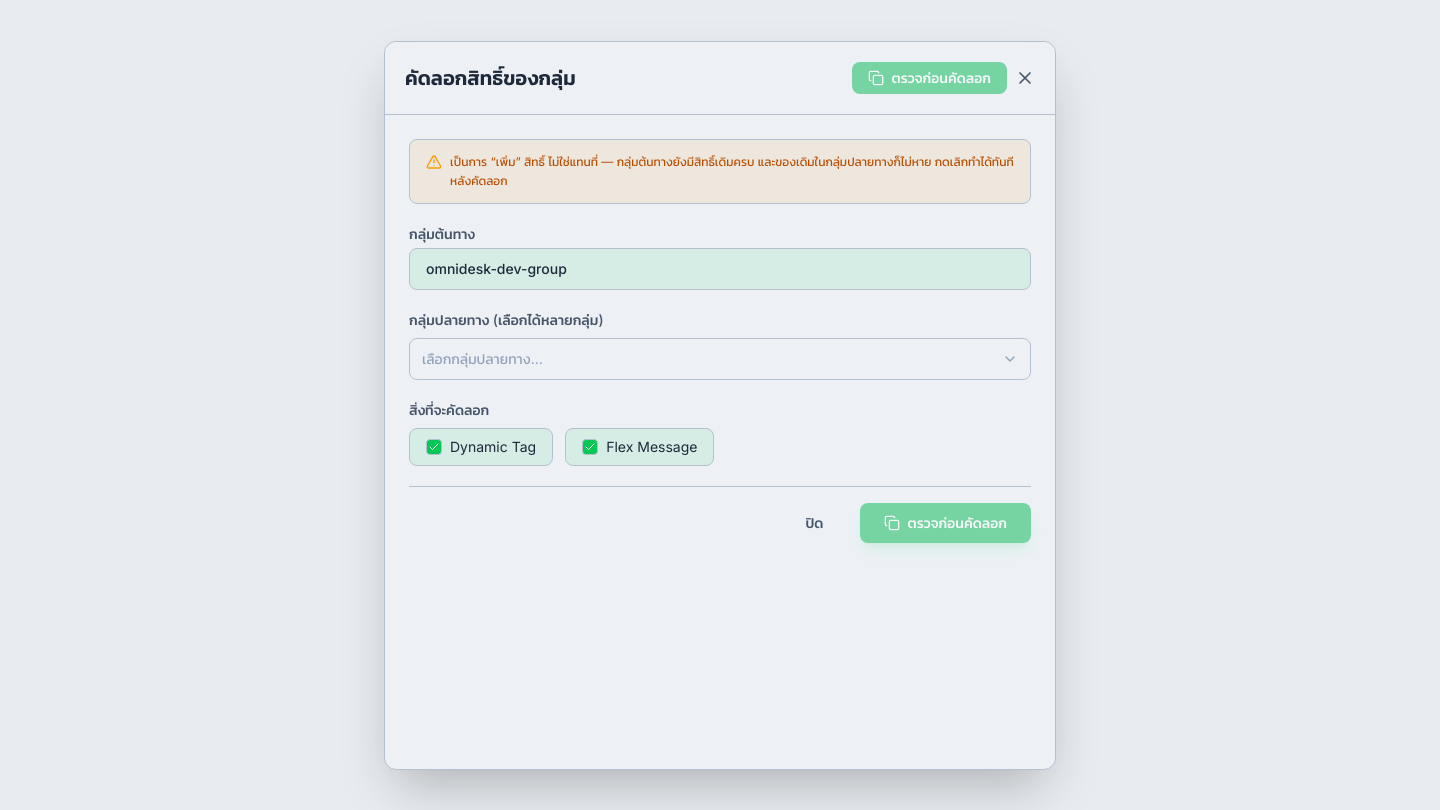
Test: GroupScopeCloneModal › changing the selection throws the preview away, so a stale count can never be confirmed
The width and height of the screenshot is (1440, 810).
Click the button with test id "group-picker-trigger" at (482, 358), box top-left (409, 338), bottom-right (1031, 380)
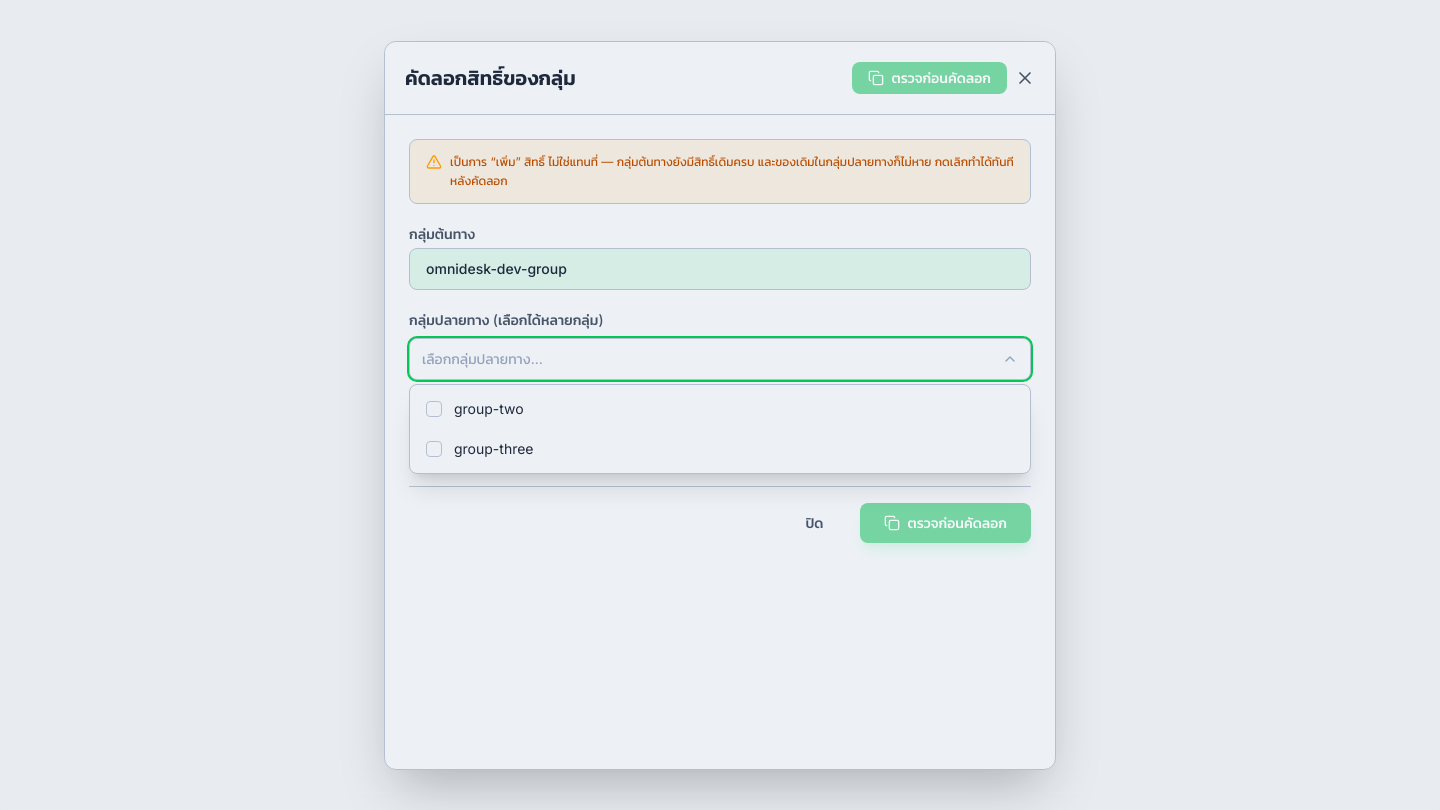
Click the button "group-two" at (489, 408), box top-left (410, 388), bottom-right (1030, 428)
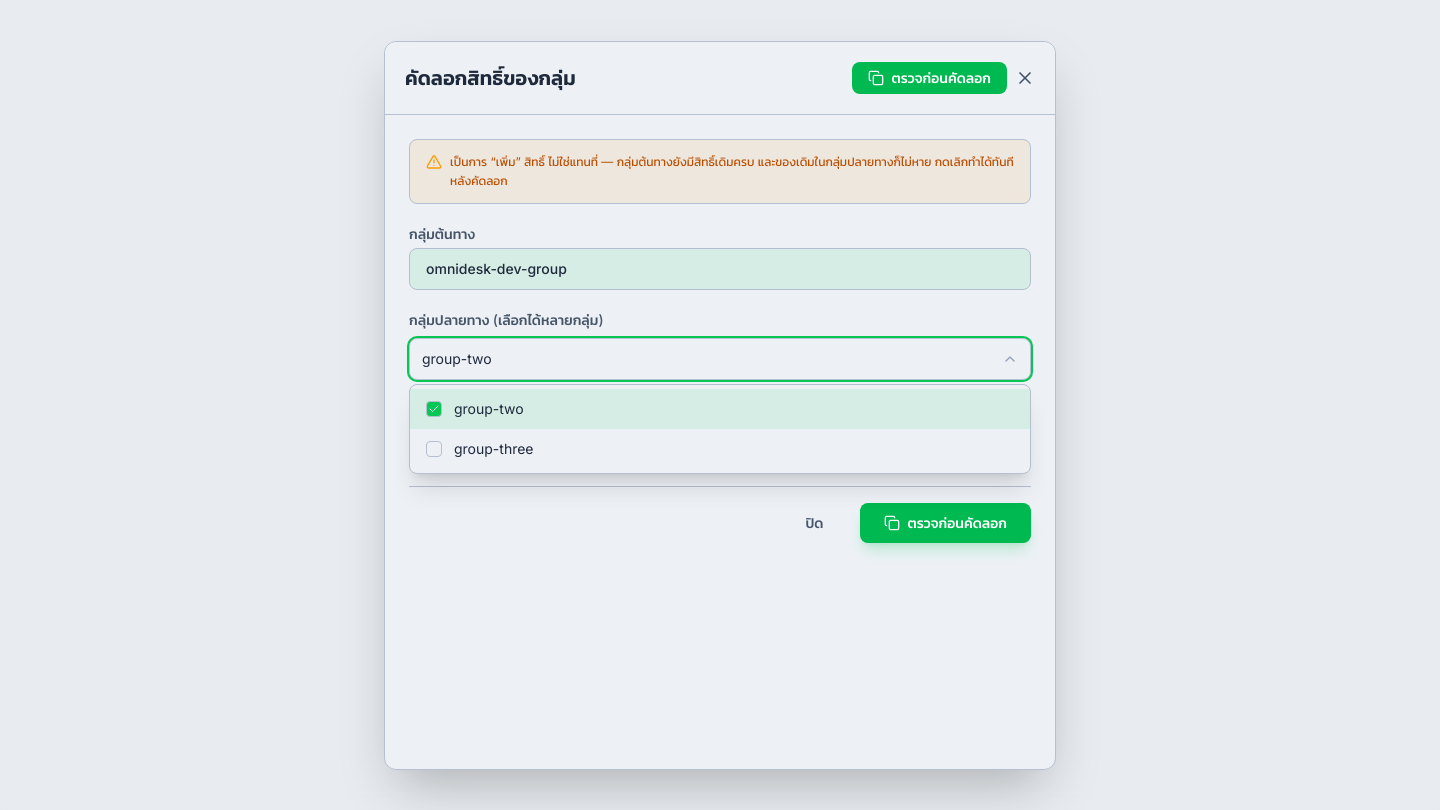
Click the button "ตรวจก่อนคัดลอก" in the row of "คัดลอกสิทธิ์ของกลุ่ม" at (929, 78), box top-left (852, 62), bottom-right (1007, 94)
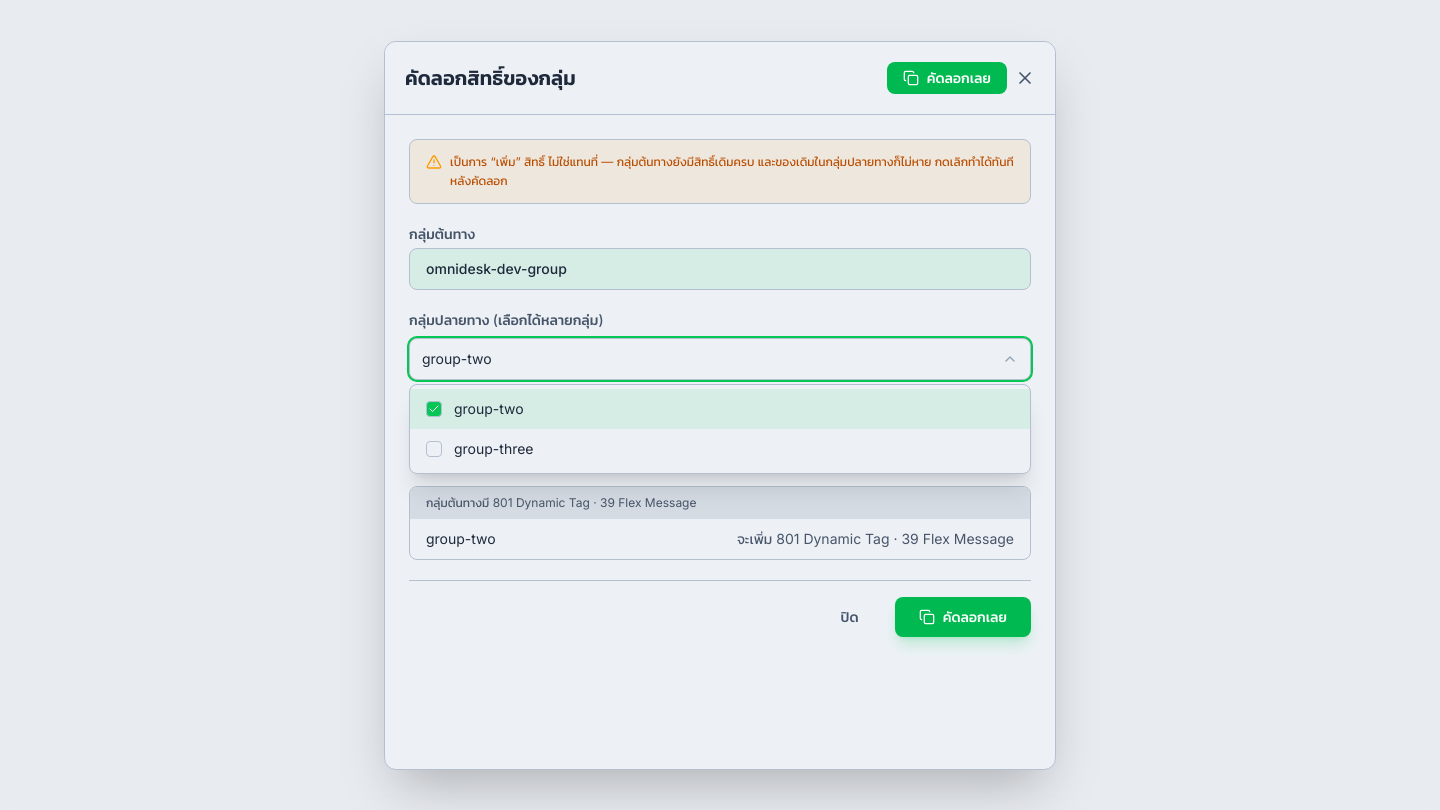
Click the button "group-three" at (494, 448), box top-left (410, 428), bottom-right (1030, 468)
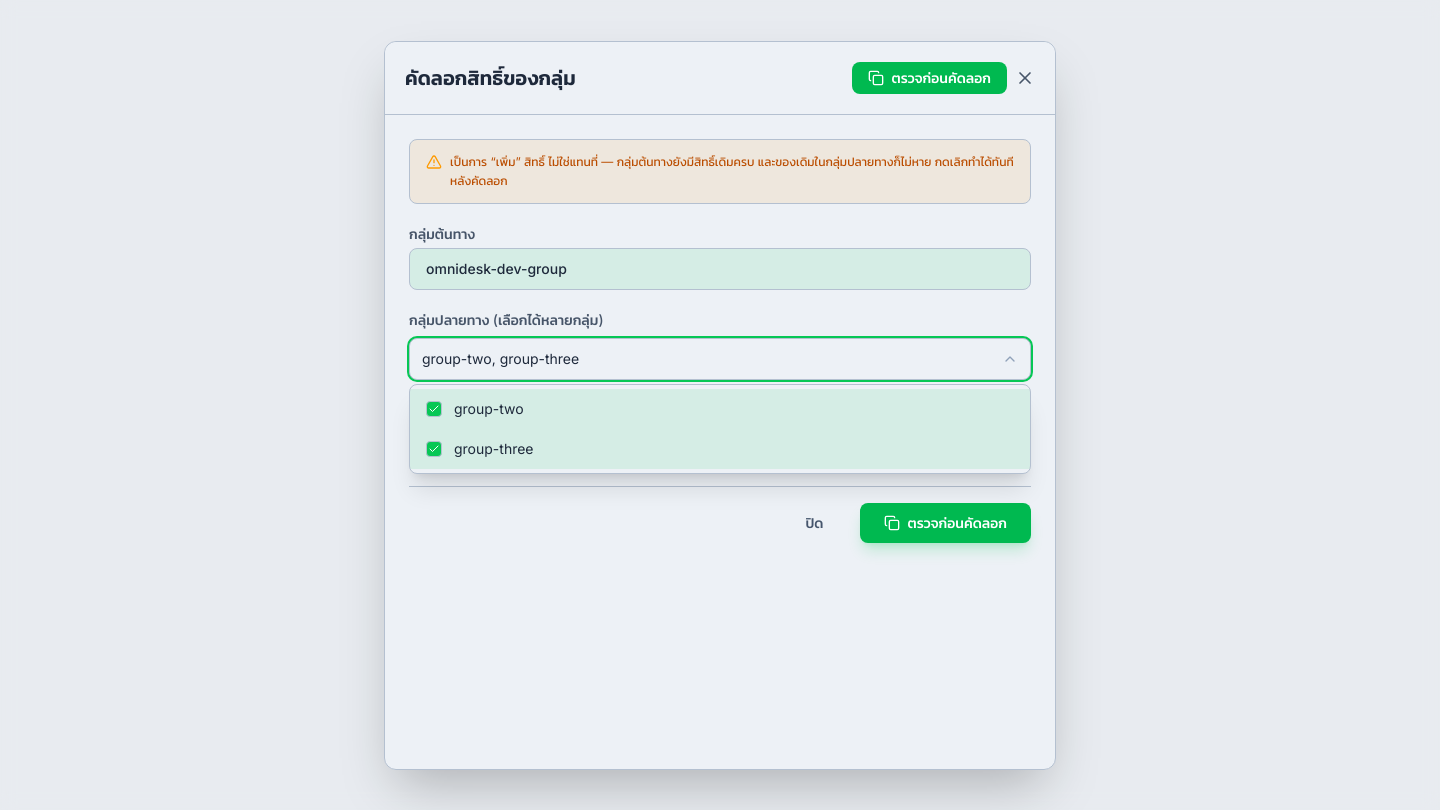
Result: no buttons "คัดลอกเลย" are shown
